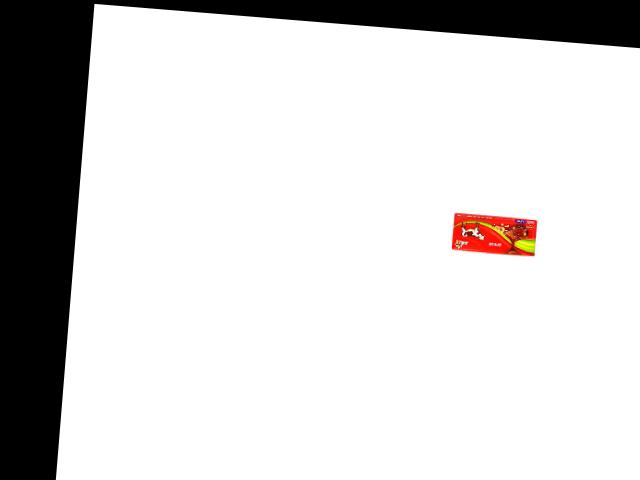chocolate: (445, 204, 539, 259)
